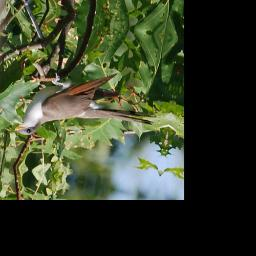Cuckoo: (14, 53, 164, 165)
